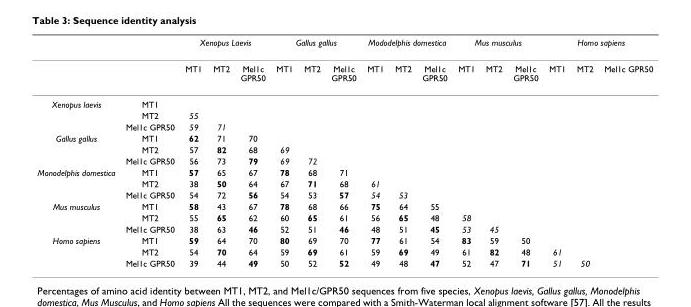table: (36, 36, 652, 267)
table column: (36, 36, 119, 267), (119, 36, 179, 267), (598, 36, 652, 267), (234, 36, 270, 267), (325, 36, 361, 267), (416, 36, 452, 267), (507, 36, 542, 267), (206, 36, 234, 267), (297, 36, 325, 267), (388, 36, 416, 267), (479, 36, 507, 267), (542, 36, 570, 267), (570, 36, 598, 267), (179, 36, 206, 267), (270, 36, 297, 267), (361, 36, 388, 267), (452, 36, 479, 267)
table column header: (36, 36, 652, 90)
table row: (36, 55, 652, 90), (36, 36, 652, 55), (36, 90, 652, 109), (36, 120, 652, 132), (36, 154, 652, 166), (36, 188, 652, 200), (36, 222, 652, 234), (36, 245, 652, 257), (36, 109, 652, 120), (36, 132, 652, 143), (36, 143, 652, 154), (36, 166, 652, 177), (36, 177, 652, 188), (36, 200, 652, 211), (36, 211, 652, 222), (36, 234, 652, 245), (36, 257, 652, 267)
table spanning cell: (36, 90, 119, 132), (36, 132, 119, 166), (36, 166, 119, 200), (36, 200, 119, 234), (36, 234, 119, 267), (542, 36, 652, 55), (179, 36, 270, 55), (270, 36, 361, 55), (361, 36, 452, 55), (452, 36, 542, 55)
